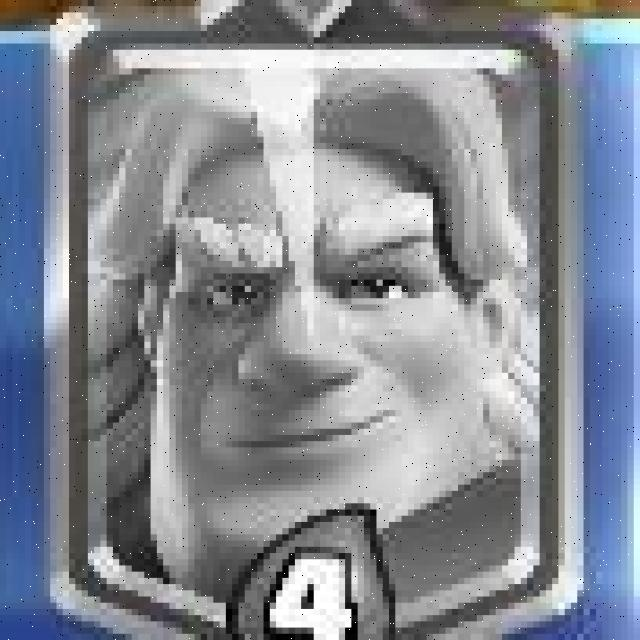Golden_Knight: (52, 8, 581, 640)
